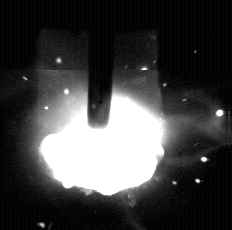arame: (89, 0, 112, 128)
poca: (37, 0, 163, 230)
